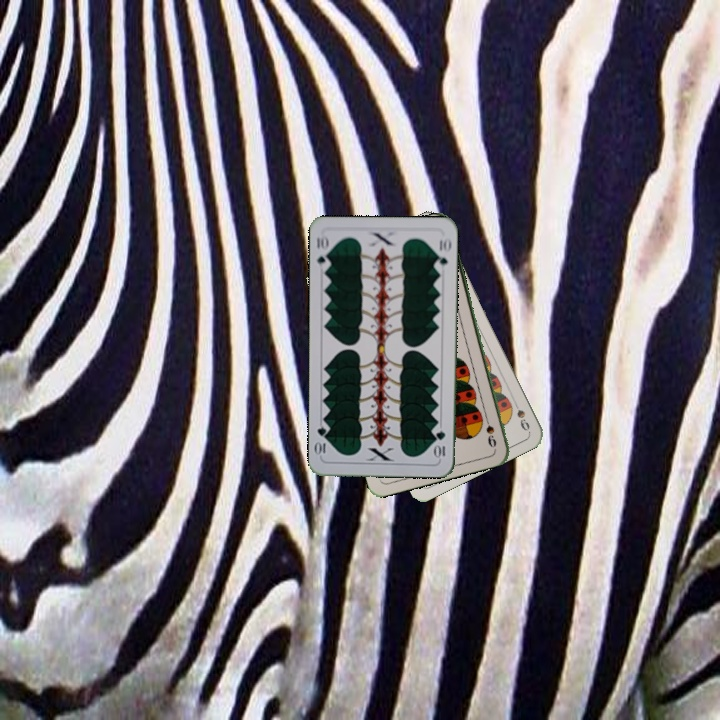G10: (313, 231, 332, 272), (432, 427, 448, 461)
S9: (480, 410, 499, 450), (513, 403, 532, 434)
